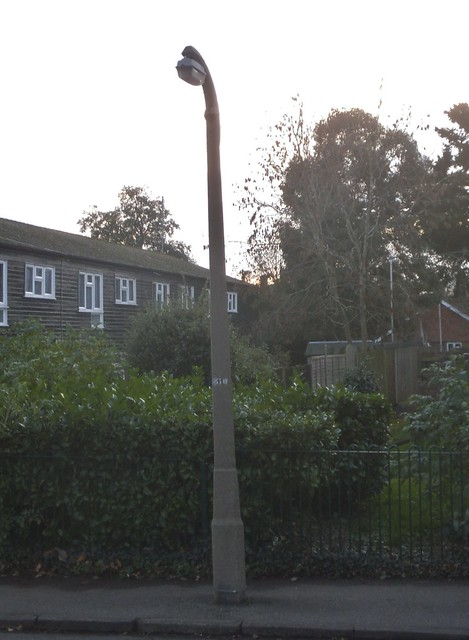light_pole: (181, 43, 256, 606)
